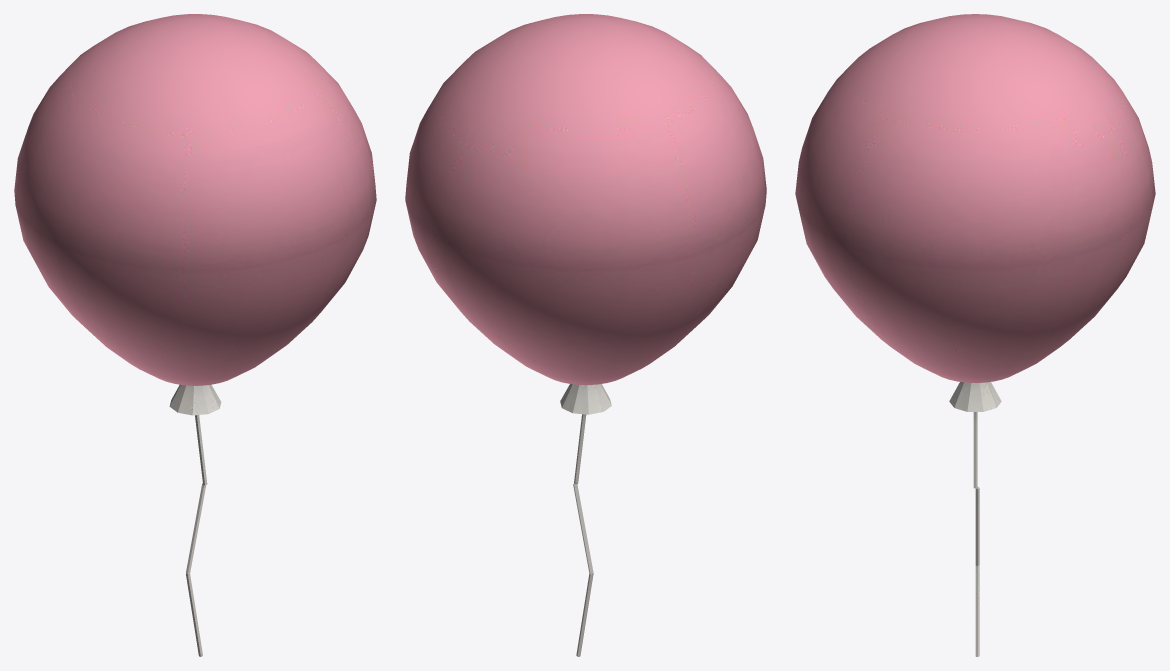
File: balloon.glb
3 views of the same model, side by side, from view 1: azimuth 30°, elevation 25°; view 2: azimuth 150°, elevation 25°; view 3: azimuth 270°, elevation 25° (orthographic).
Visible parts, largest first — view 1: Balloon; view 2: Balloon; view 3: Balloon.
Part boxes in pixels (x1,y1,x2,y2): Balloon: [14, 14, 376, 656]; Balloon: [405, 14, 766, 656]; Balloon: [795, 14, 1155, 656].
Bounding box in the file's own units: 0.9601 × 1.83 × 0.9601.
Materials: 3 (3 with a texture image).
